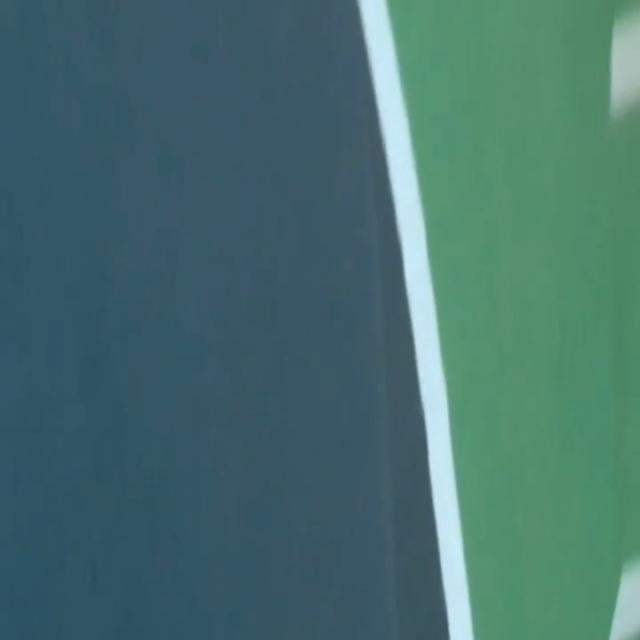right: (357, 0, 473, 639)
